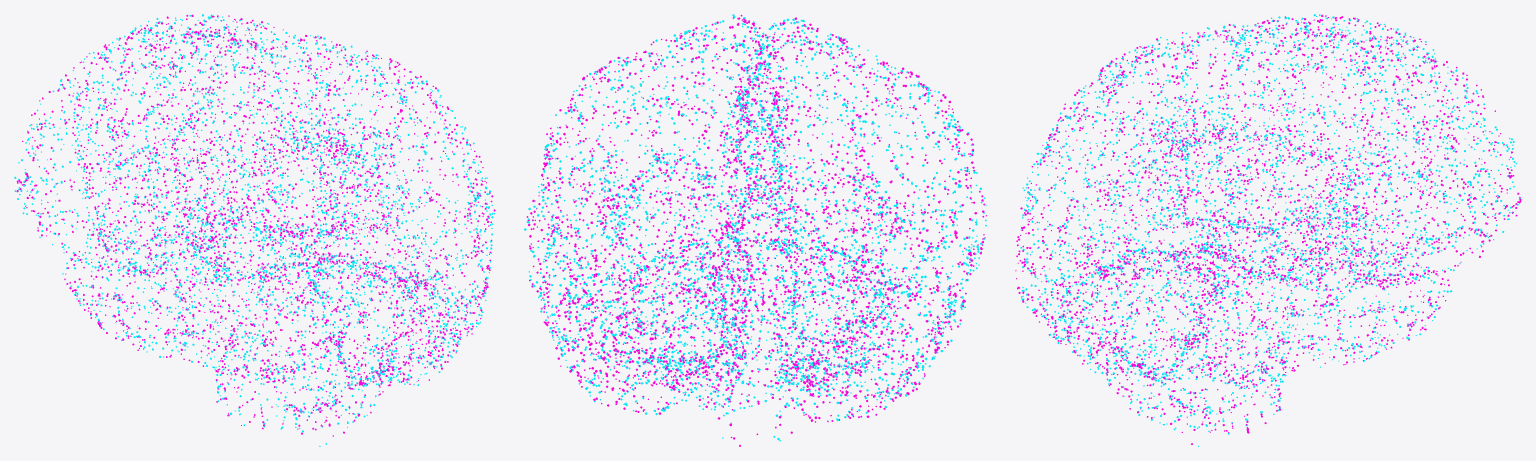
The model's file is brain_hologram.glb.
3 renders of one model, left to right at view 1: azimuth 30°, elevation 25°; view 2: azimuth 150°, elevation 25°; view 3: azimuth 270°, elevation 25°, orthographic. The views are drawn at different scales.
Parts seen in each view (by area): view 1: Icosphere.001; view 2: Icosphere.001; view 3: Icosphere.001.
Boxes of the visible parts, x1,y1,x2,y2 form: Icosphere.001: (14,14,495,446); Icosphere.001: (524,14,986,446); Icosphere.001: (1015,14,1521,446).
Bounding box in the file's own units: 1.09 × 1.1 × 1.3.
